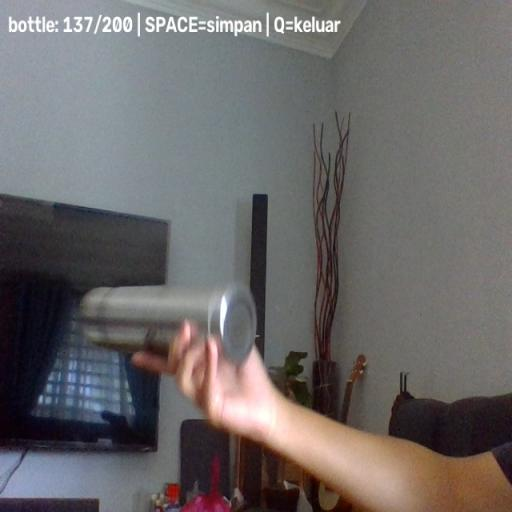Bottle: (77, 279, 257, 365)
